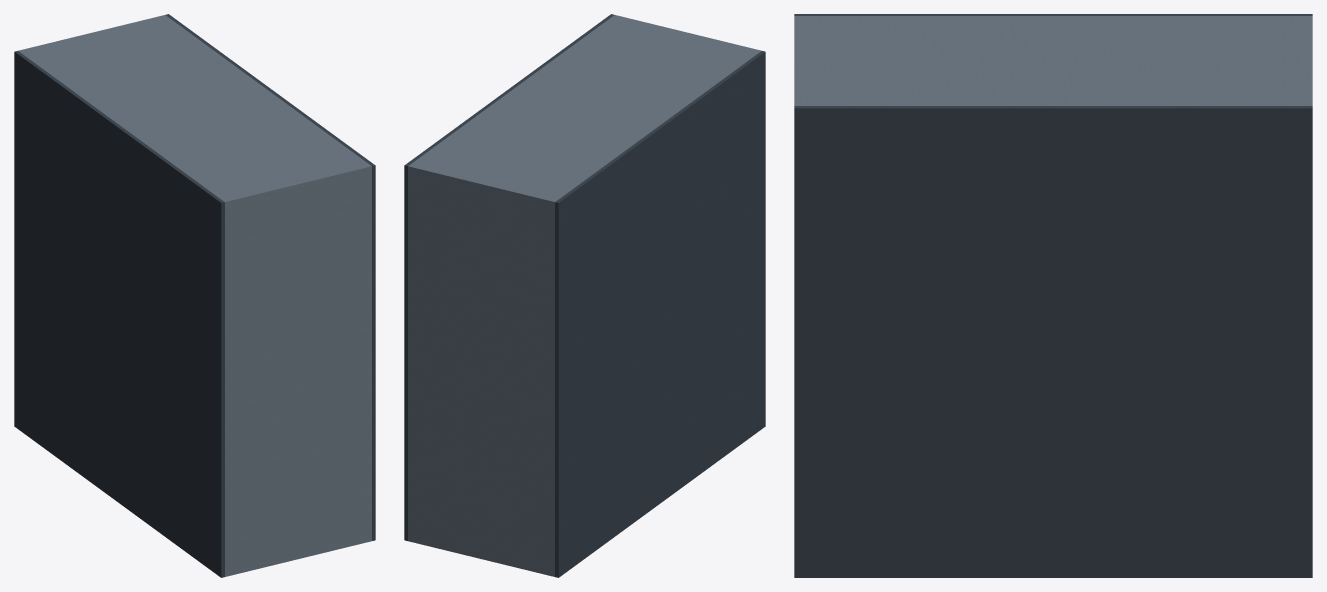
Rendered from 05_computer_tower_destructible.glb.
3 views of the same model, side by side, from view 1: azimuth 30°, elevation 25°; view 2: azimuth 150°, elevation 25°; view 3: azimuth 270°, elevation 25° (orthographic). The views are drawn at different scales.
Visible parts, largest first — view 1: 05_computer_tower_destructible_Intact; view 2: 05_computer_tower_destructible_Intact; view 3: 05_computer_tower_destructible_Intact.
Part boxes in pixels (<box>): 05_computer_tower_destructible_Intact: <box>14,14,375,577</box>; 05_computer_tower_destructible_Intact: <box>404,14,765,577</box>; 05_computer_tower_destructible_Intact: <box>794,14,1312,577</box>.
Size of the model in its own units: 0.2622 by 0.6091 by 0.6091.
2 materials, 2 textured.
